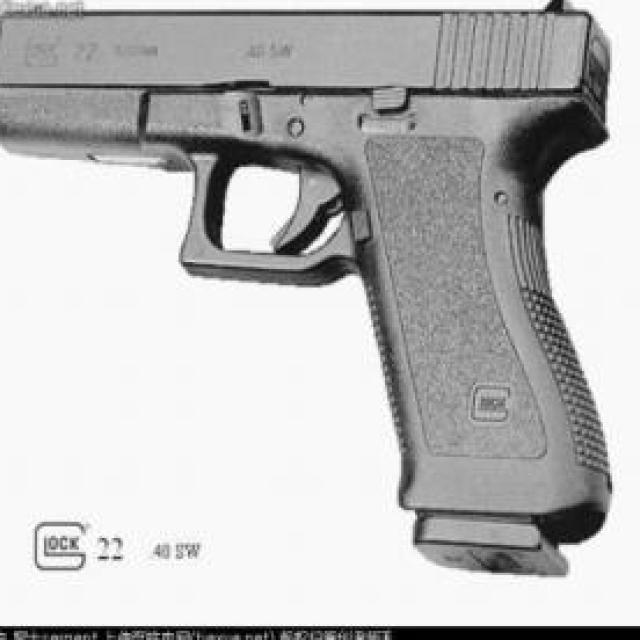pistol: (0, 0, 610, 580)
